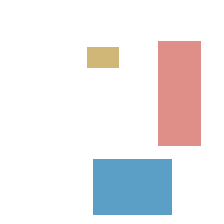rectangle: (158, 41, 200, 145), (93, 159, 171, 214), (87, 47, 118, 67)
